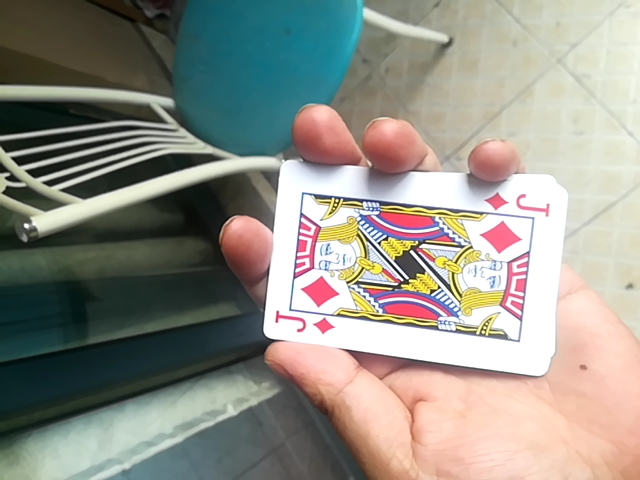fk j: (262, 156, 574, 374)
